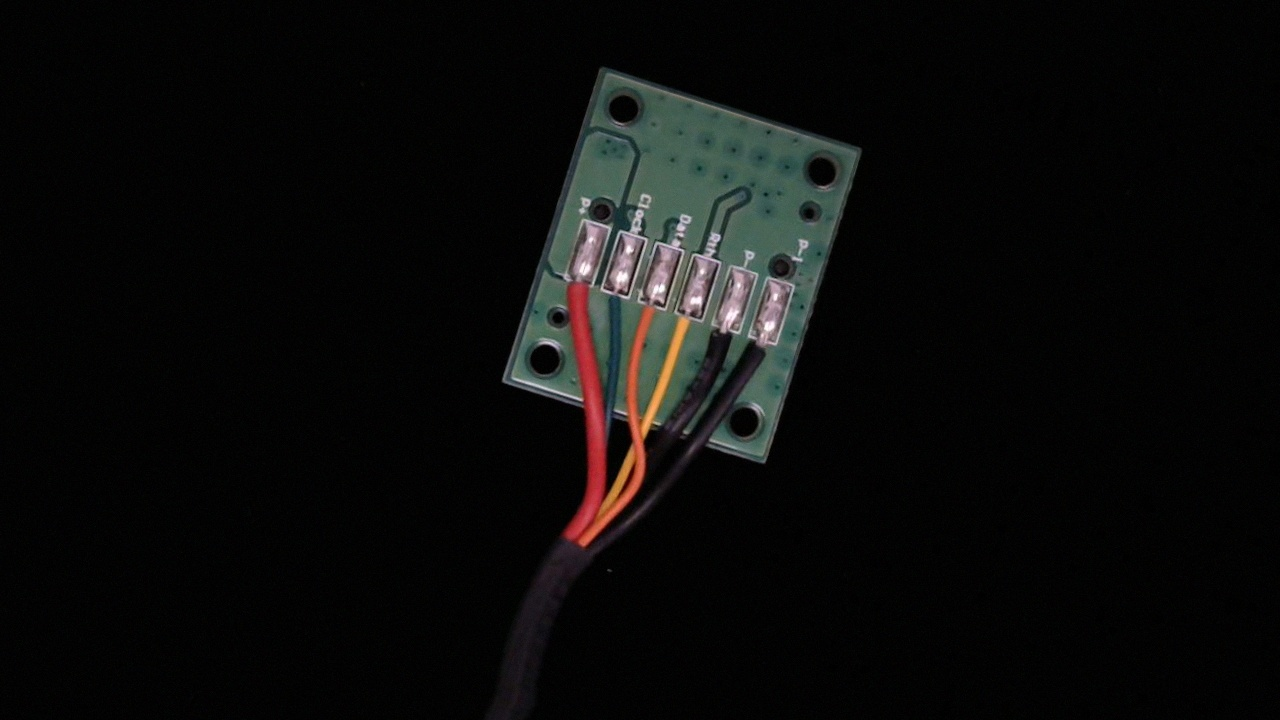Black: (695, 307, 744, 383)
Black1: (732, 322, 783, 396)
Green: (588, 276, 632, 341)
Orange: (622, 282, 674, 360)
Red: (553, 265, 600, 329)
Yellow: (658, 295, 709, 369)
